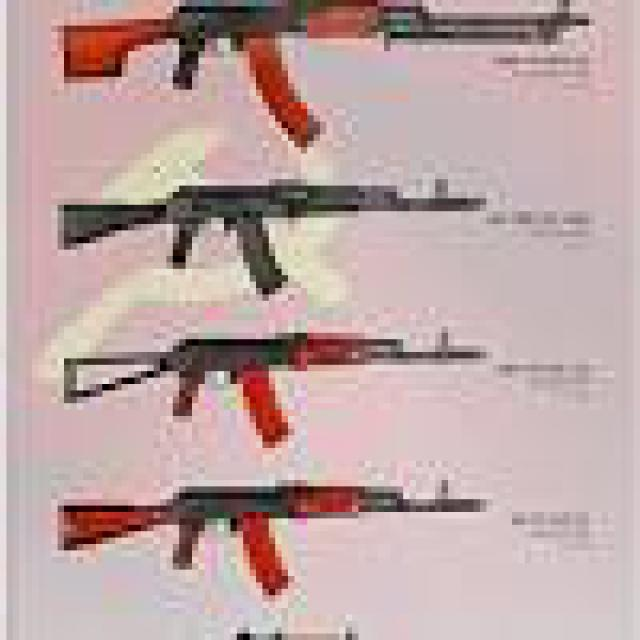long weapon: (36, 295, 502, 459), (38, 151, 492, 311), (46, 438, 482, 598)
